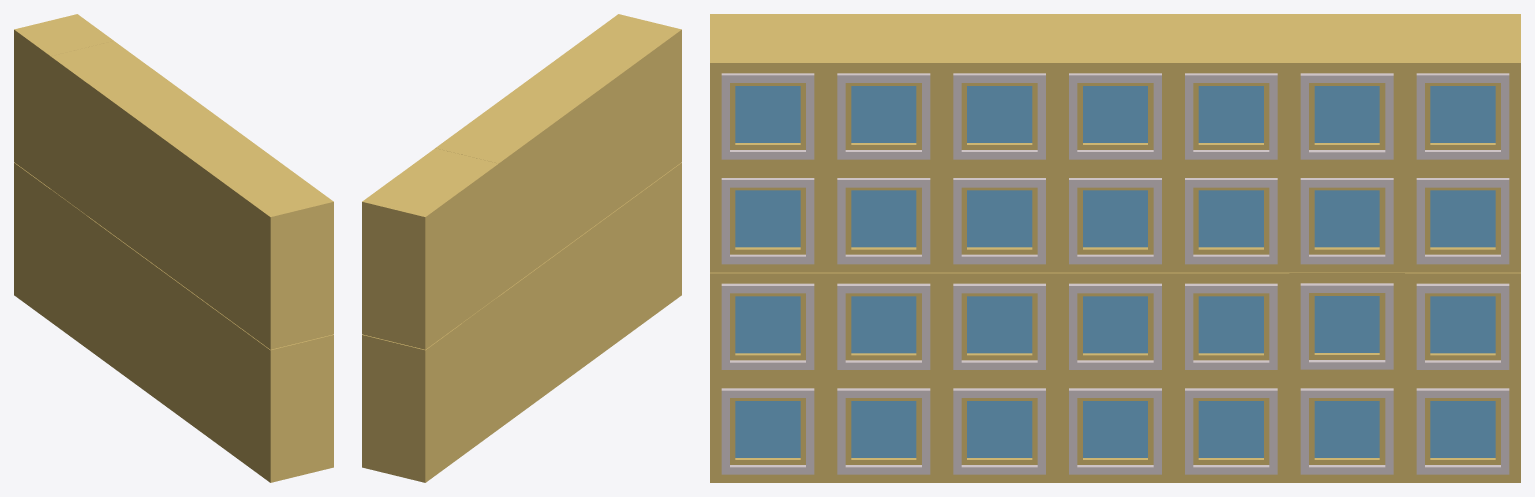
File: home2.fbx
3 views of the same model, side by side, from view 1: azimuth 30°, elevation 25°; view 2: azimuth 150°, elevation 25°; view 3: azimuth 270°, elevation 25° (orthographic). The views are drawn at different scales.
Parts seen in each view (by area): view 1: Cube.021, Cube.007, Cube.014, Cube, Cube.023, Cube.026, Cube.027, Cube.022, Cube.024, Cube.025, Cube.009, Cube.012 (+16 smaller); view 2: Cube.027, Cube.013, Cube.020, Cube.006, Cube.025, Cube.022, Cube.023, Cube.024, Cube.021, Cube.026, Cube.008, Cube.011 (+16 smaller); view 3: Cube.023, Cube.024, Cube.025, Cube.021, Cube.022, Cube.026, Cube.027, Cube.009, Cube.011, Cube.016, Cube.018, Cube.010 (+16 smaller).
Boxes of the visible parts, x1,y1,x2,y2 form: Cube.021: [234, 175, 333, 283]; Cube.007: [234, 323, 333, 416]; Cube.014: [234, 257, 333, 349]; Cube: [234, 390, 333, 482]; Cube.023: [160, 121, 259, 229]; Cube.026: [50, 41, 149, 148]; Cube.027: [14, 14, 113, 122]; Cube.022: [197, 148, 296, 256]; Cube.024: [124, 94, 223, 202]; Cube.025: [87, 67, 186, 175]; Cube.009: [160, 270, 197, 362]; Cube.012: [50, 189, 87, 281]; Cube.027: [362, 175, 461, 283]; Cube.013: [362, 323, 461, 416]; Cube.020: [362, 257, 461, 349]; Cube.006: [362, 390, 461, 482]; Cube.025: [435, 121, 535, 229]; Cube.022: [545, 41, 645, 148]; Cube.023: [509, 67, 608, 175]; Cube.024: [472, 94, 571, 202]; Cube.021: [582, 14, 681, 121]; Cube.026: [399, 148, 498, 256]; Cube.008: [608, 189, 645, 281]; Cube.011: [498, 270, 535, 362]; Cube.023: [941, 14, 1057, 167]; Cube.024: [1057, 14, 1173, 167]; Cube.025: [1173, 14, 1289, 167]; Cube.021: [710, 14, 825, 167]; Cube.022: [826, 14, 941, 167]; Cube.026: [1289, 14, 1404, 167]; Cube.027: [1405, 14, 1520, 167]; Cube.009: [941, 272, 1057, 377]; Cube.011: [1173, 272, 1289, 377]; Cube.016: [941, 167, 1057, 272]; Cube.018: [1173, 167, 1289, 272]; Cube.010: [1057, 272, 1173, 377].
Size of the model in its own units: 209 by 800 by 1400.
